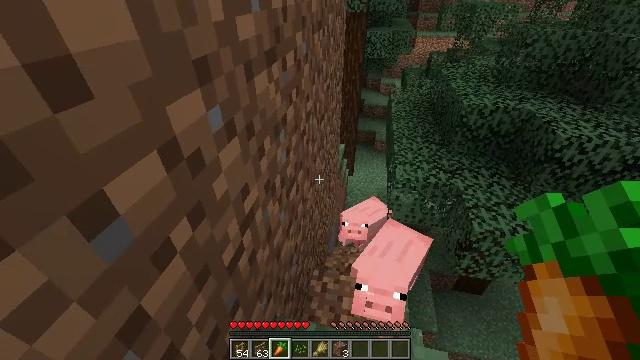pig: (349, 219, 432, 321), (341, 195, 392, 246)
